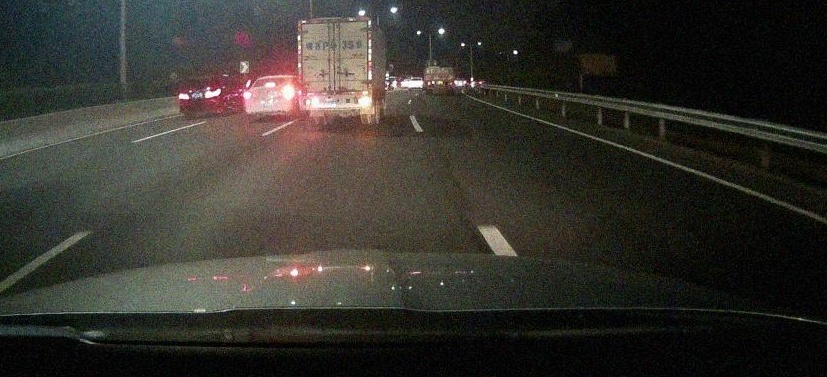L_light: (243, 91, 254, 100), (305, 99, 319, 106), (178, 92, 190, 100)
R_light: (205, 89, 221, 99), (281, 89, 296, 98), (356, 97, 372, 105)
T_light: (327, 21, 340, 27), (265, 82, 275, 88), (203, 81, 211, 83)
night-no: (297, 16, 374, 126), (178, 79, 225, 117)
night-right: (242, 75, 297, 119)
